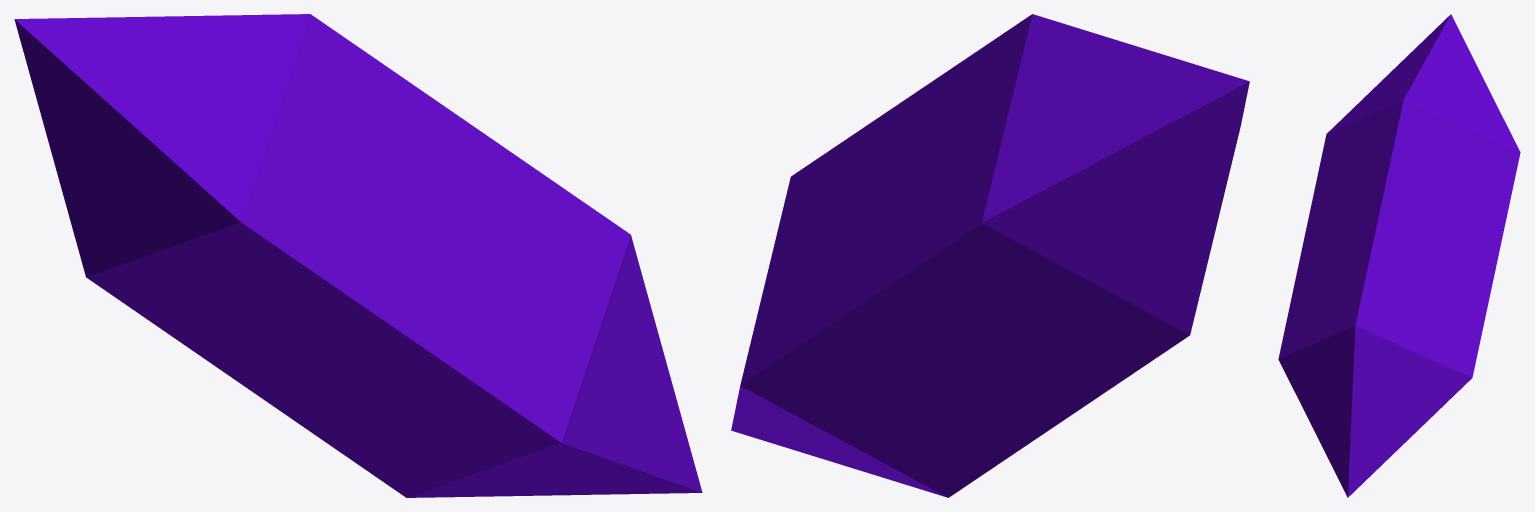
Rendered from left_arm_upper.obj.
3 views of the same model, side by side, from view 1: azimuth 30°, elevation 25°; view 2: azimuth 150°, elevation 25°; view 3: azimuth 270°, elevation 25° (orthographic). The views are drawn at different scales.
Parts seen in each view (by area): view 1: left_arm_upper; view 2: left_arm_upper; view 3: left_arm_upper.
Part boxes in pixels (<box>): left_arm_upper: <box>14,14,702,497</box>; left_arm_upper: <box>731,14,1249,497</box>; left_arm_upper: <box>1278,14,1520,497</box>.
Bounding box in the file's own units: 1.02 × 0.9015 × 0.6242.
